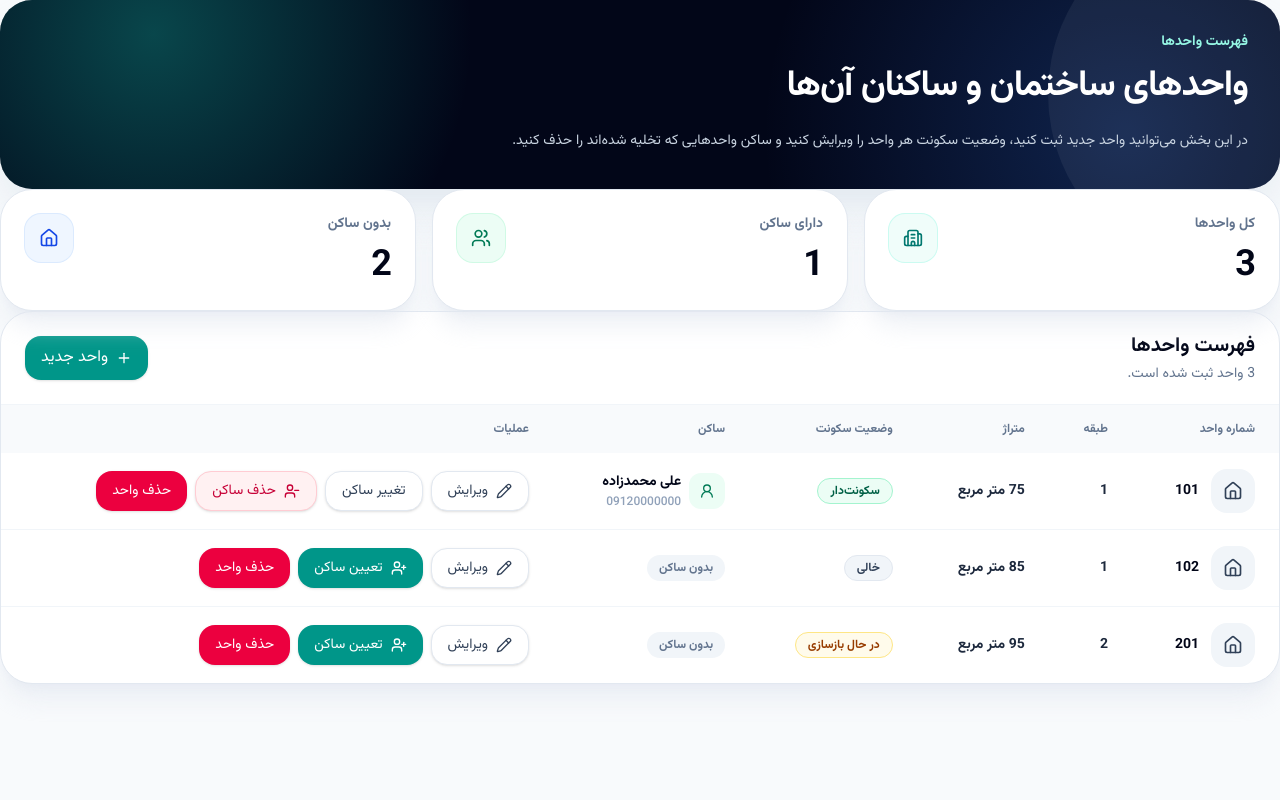
it: UnitsSection › keeps the edit modal open and reports why the server refused
The width and height of the screenshot is (1280, 800).
Click the button with aria-label "ویرایش واحد 101".
click(480, 491)  # box [430, 471, 529, 511]
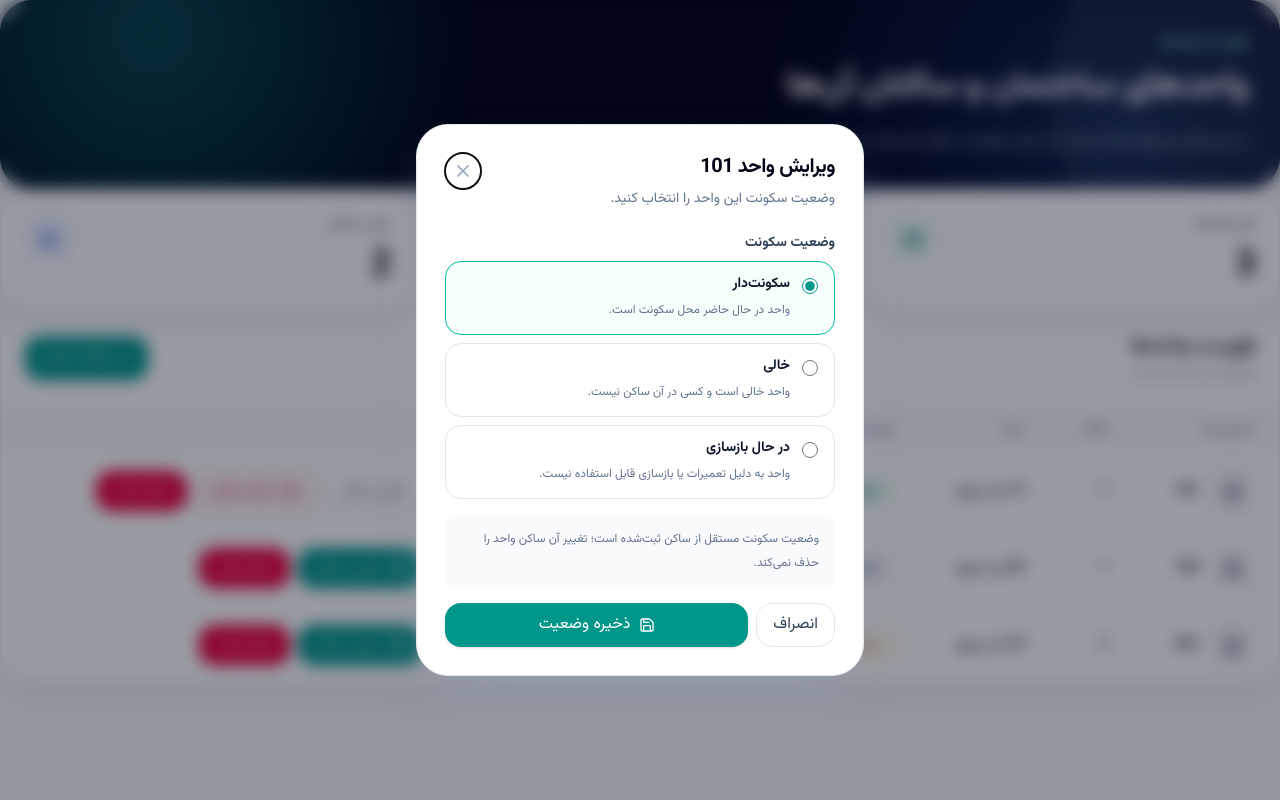
Click the radio button labelled "خالی واحد خالی است و کسی در آن ساکن نیست.".
click(810, 368)  # box [802, 360, 818, 376]
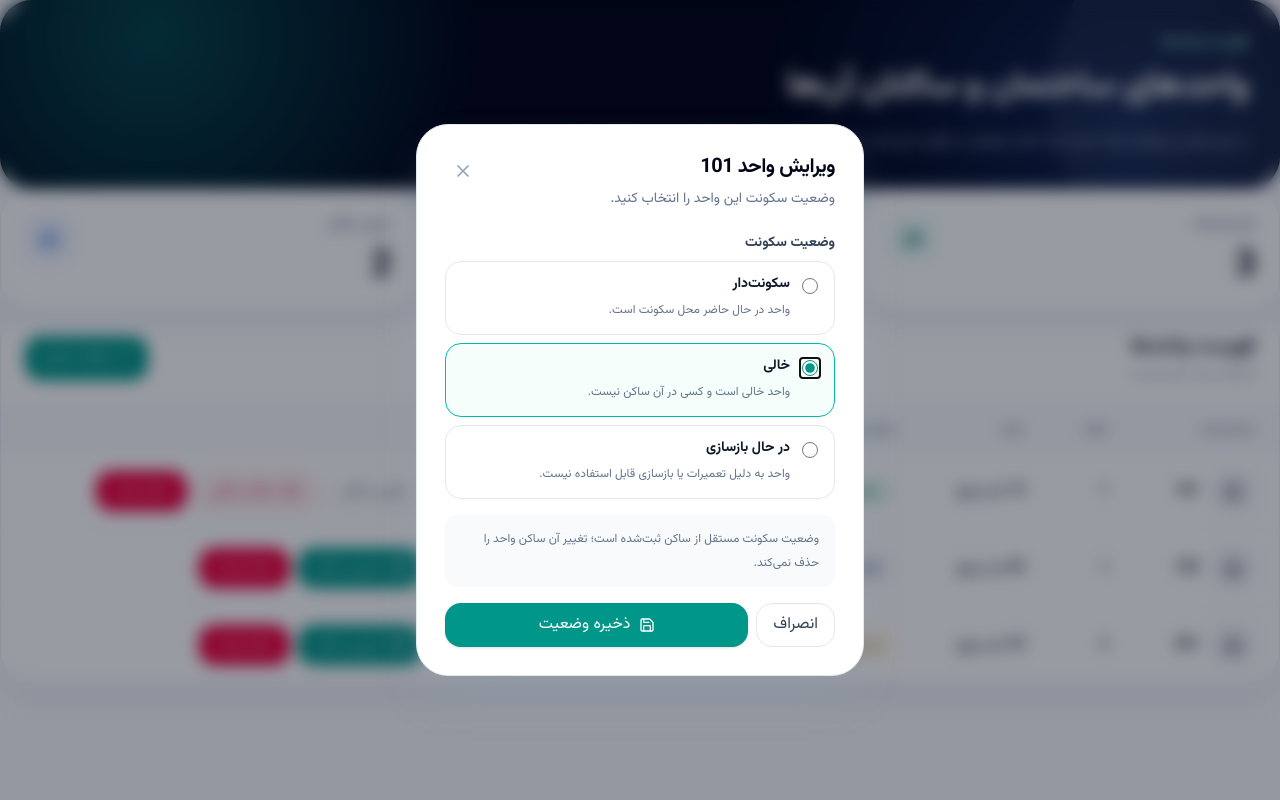
Click the button "ذخیره وضعیت".
click(597, 625)  # box [445, 603, 748, 647]
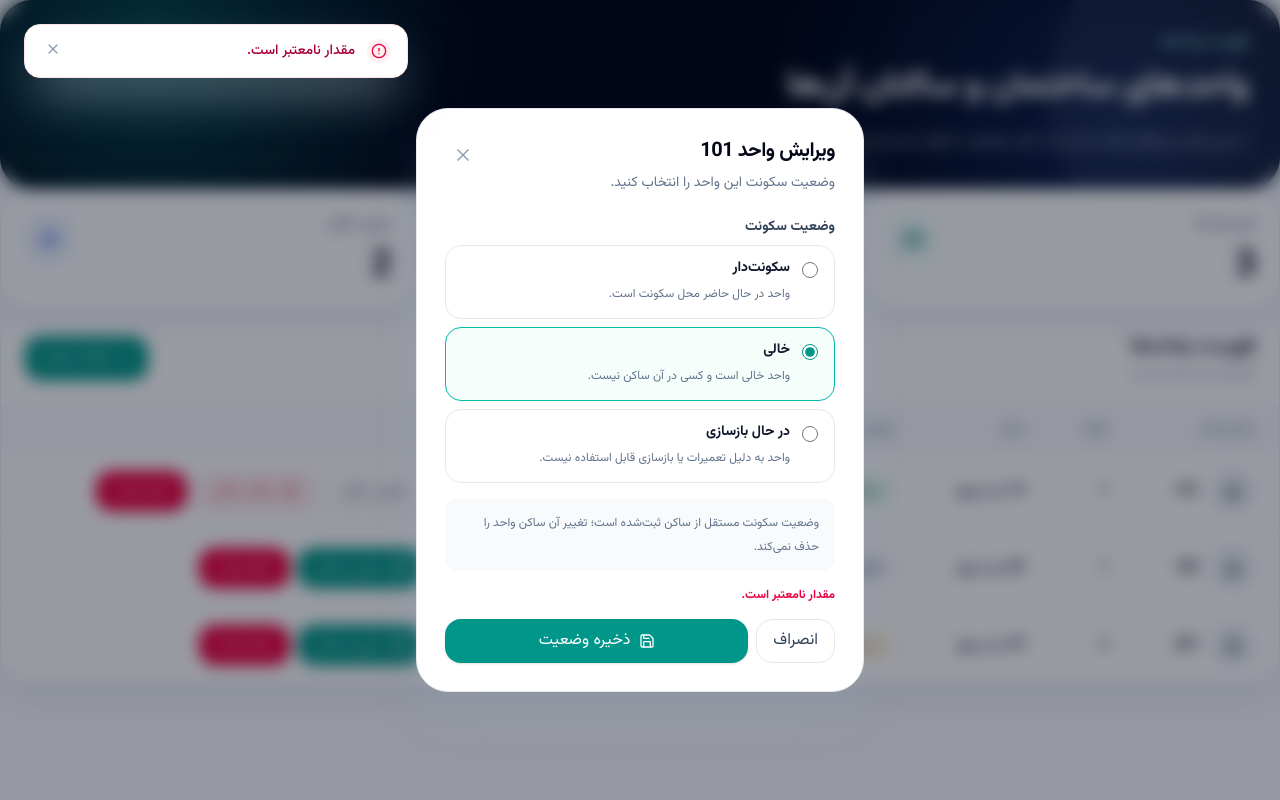
Expected: the text "سکونت‌دار" next to "75 متر مربع" is shown, [830, 482, 880, 500]
Now the dialog "ویرایش واحد 101" is shown, box [416, 108, 864, 692]
Now the message reads "مقدار نامعتبر است.", box [742, 586, 835, 604]
